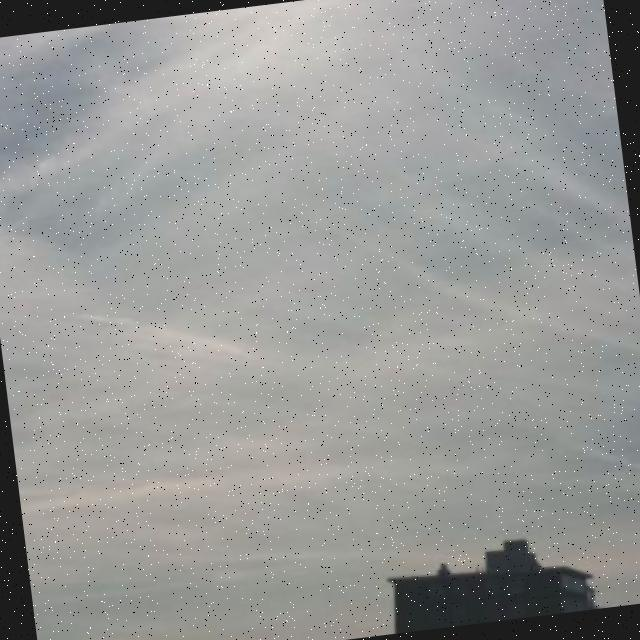Ct: (1, 25, 640, 533)
